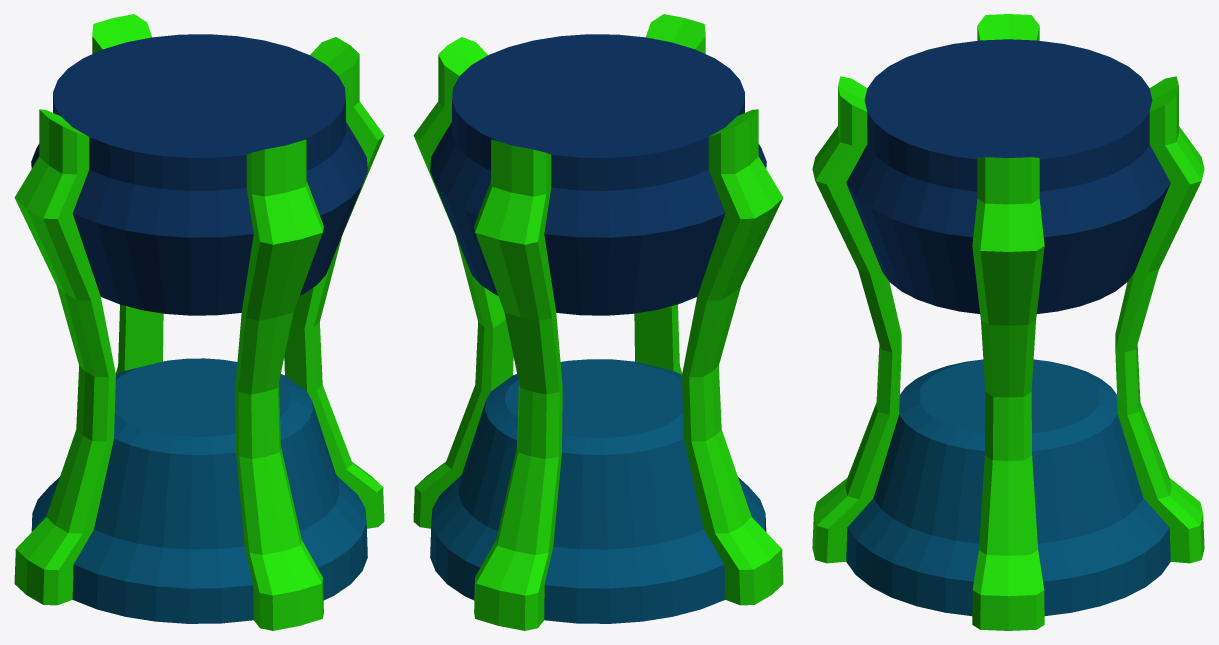
The model's file is Tower.fbx.
3 renders of one model, left to right at view 1: azimuth 30°, elevation 25°; view 2: azimuth 150°, elevation 25°; view 3: azimuth 270°, elevation 25°, orthographic.
Parts seen in each view (by area): view 1: Cylinder; view 2: Cylinder; view 3: Cylinder.
Boxes of the visible parts, left/top/right/bottom form: Cylinder: left=14, top=14, right=384, bottom=630; Cylinder: left=413, top=14, right=783, bottom=630; Cylinder: left=812, top=14, right=1204, bottom=630.
Bounding box in the file's own units: 188 × 244 × 188.
